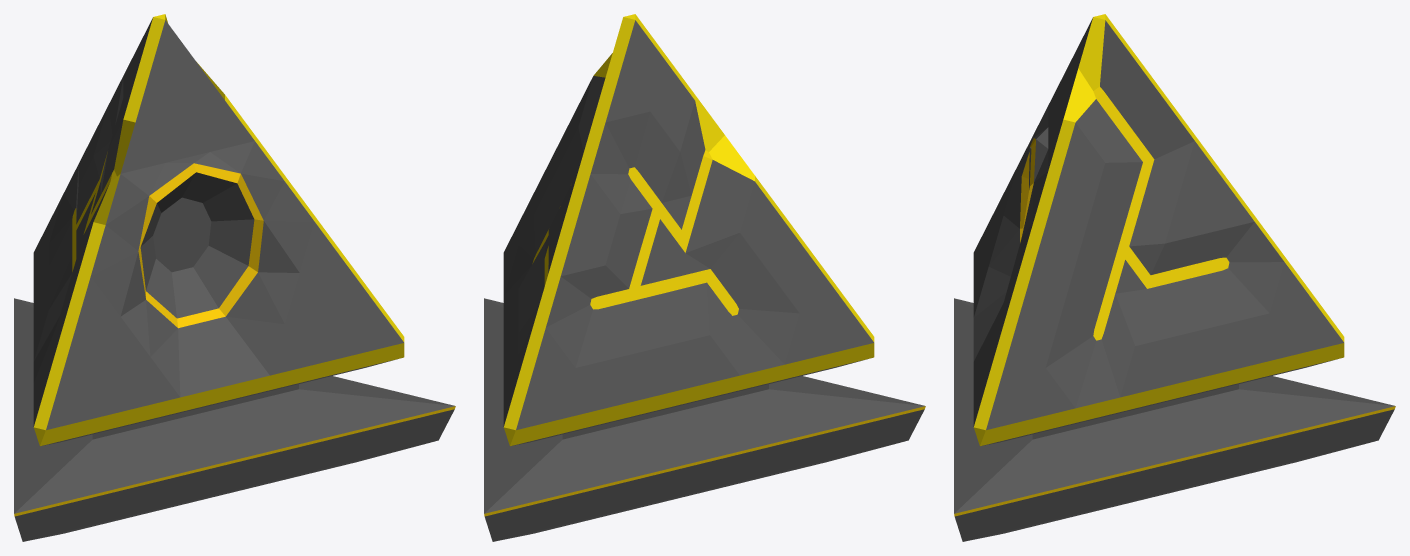
File: LavaPyramid.fbx
3 renders of one model, left to right at view 1: azimuth 30°, elevation 25°; view 2: azimuth 150°, elevation 25°; view 3: azimuth 270°, elevation 25°, orthographic.
Parts seen in each view (by area): view 1: top, bot; view 2: top, bot; view 3: top, bot.
Boxes of the visible parts, x1,y1,x2,y2 form: top: (33, 14, 404, 446); bot: (14, 298, 455, 541); top: (503, 14, 874, 446); bot: (484, 298, 925, 541); top: (973, 14, 1344, 446); bot: (954, 298, 1395, 541).
Bounding box in the file's own units: 1.93 × 1.67 × 1.86.
